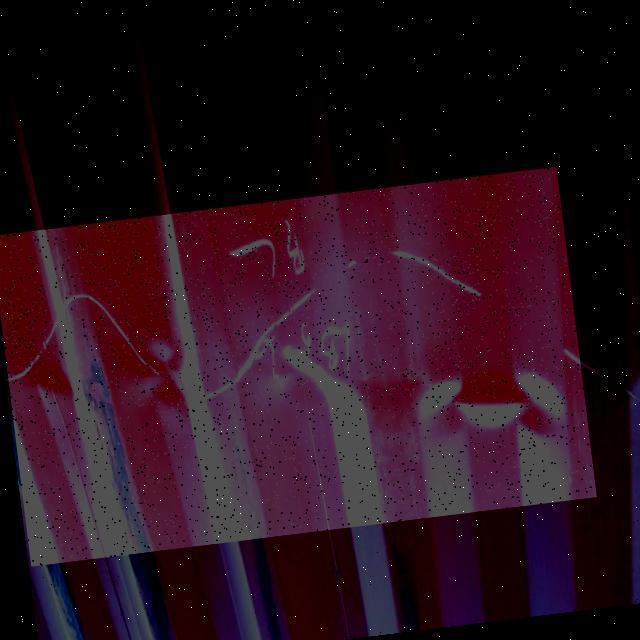dent: (1, 167, 597, 567)
